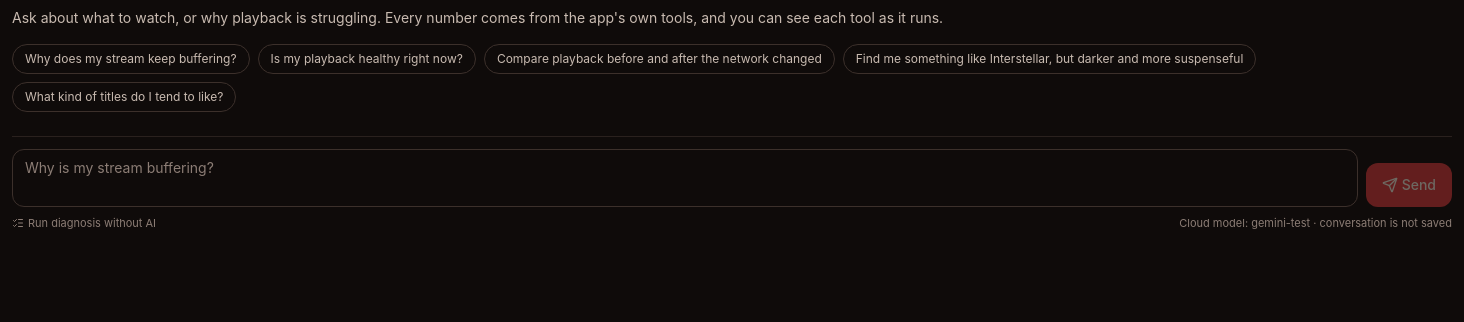
Test case: AssistantChat › flags an id the model invented
Type "why?" into the text box named "message the streaming assistant" at (685, 178), box [12, 149, 1358, 207]
Then press Enter
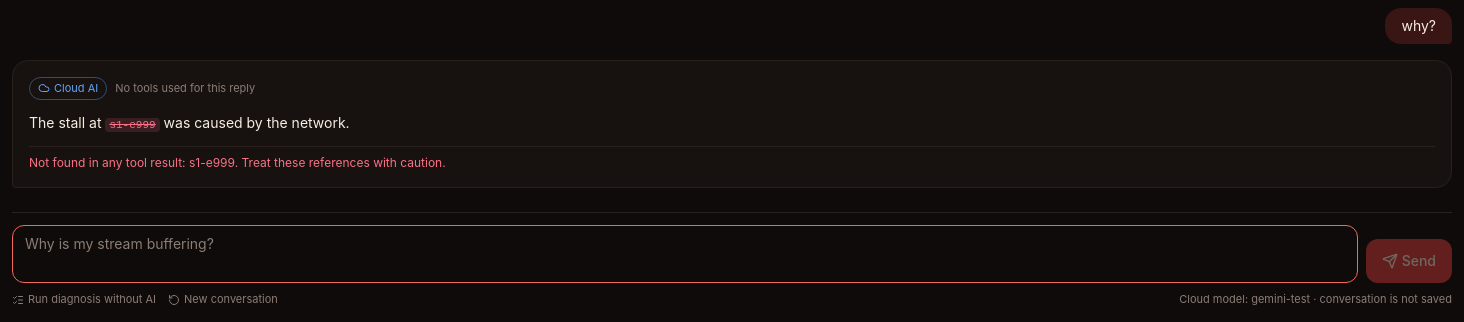
Result: the text "Not found in any tool result: s1-e999" is shown at [29, 155, 446, 170]
Result: the text "No tools used for this reply" is shown at [115, 80, 255, 96]
